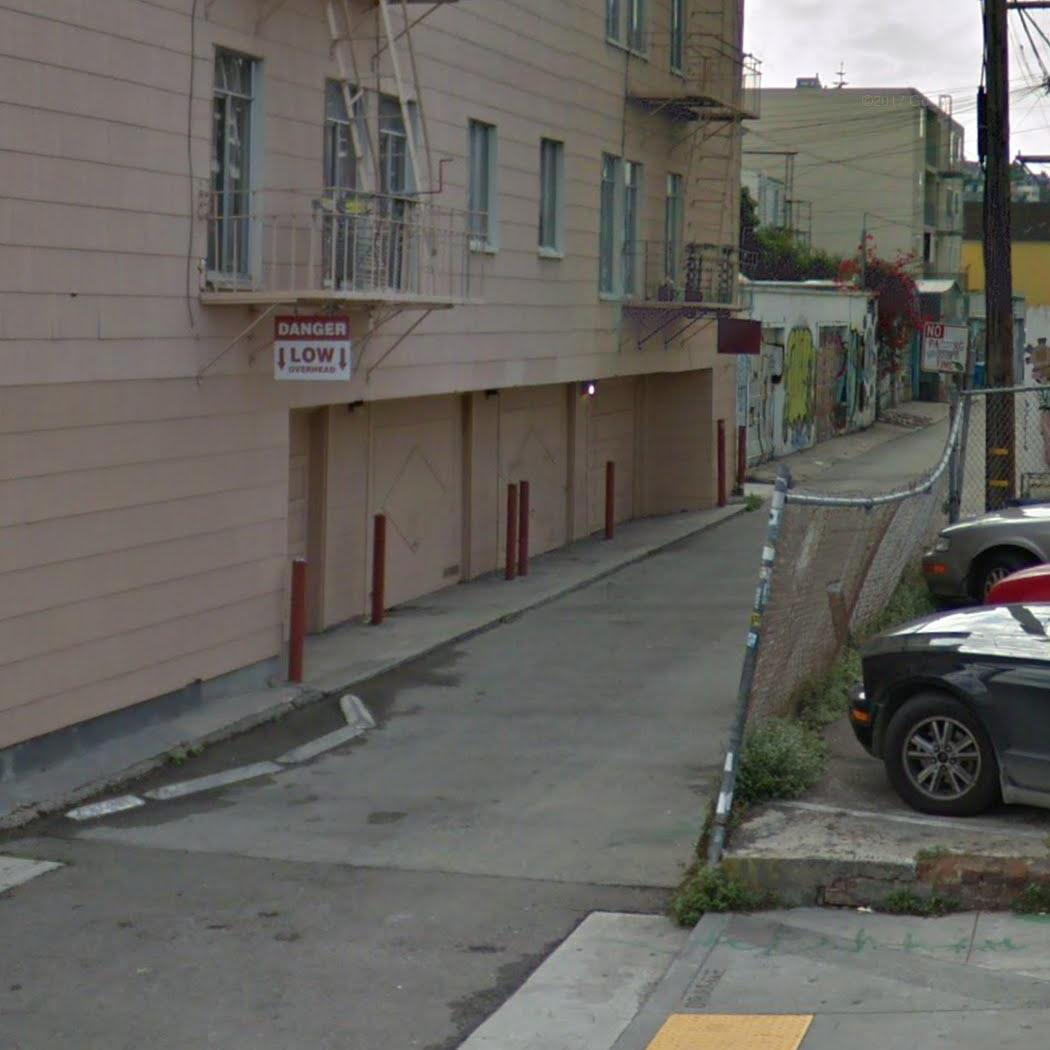No Parking: (920, 319, 972, 377)
